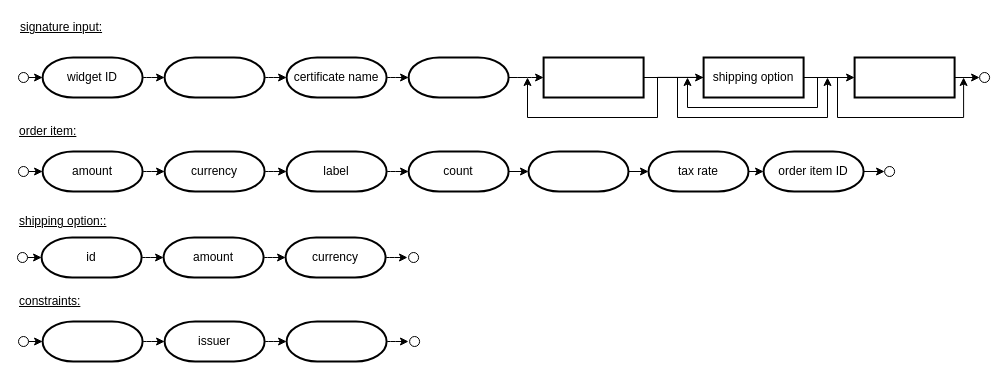
Image size: 1008x387. Some labels were removed from this diagram. Here are the shapes that lost their labels. From the top down, the centre of each, then its label:
pixel 214 77: language
pixel 458 77: order ID
pixel 593 77: order item
pixel 904 77: constraints
pixel 578 171: unit
pixel 92 341: payment scheme
pixel 336 341: brand
